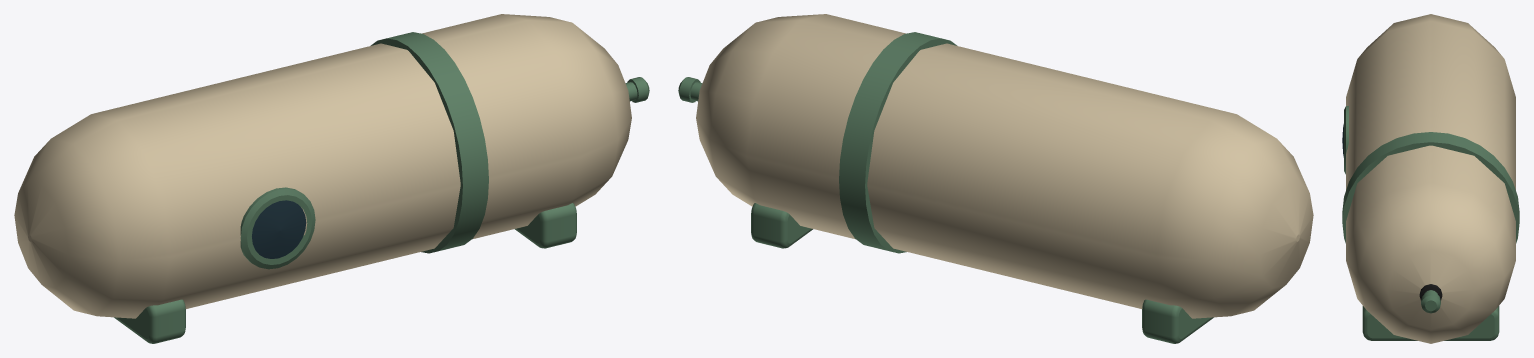
Rendered from t60_water.obj.
3 views of the same model, side by side, from view 1: azimuth 30°, elevation 25°; view 2: azimuth 150°, elevation 25°; view 3: azimuth 270°, elevation 25° (orthographic). The views are drawn at different scales.
Parts seen in each view (by area): view 1: t60_water; view 2: t60_water; view 3: t60_water.
Boxes of the visible parts, <box> form: t60_water: <box>14,14,649,343</box>; t60_water: <box>678,14,1313,343</box>; t60_water: <box>1342,14,1519,343</box>.
Bounding box in the file's own units: 3.78 × 1.17 × 1.17.
